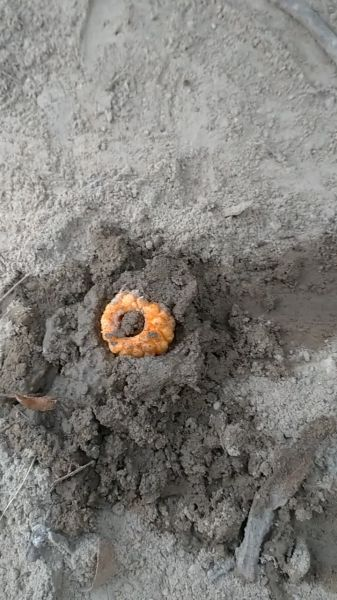eggs: (95, 285, 185, 364)
